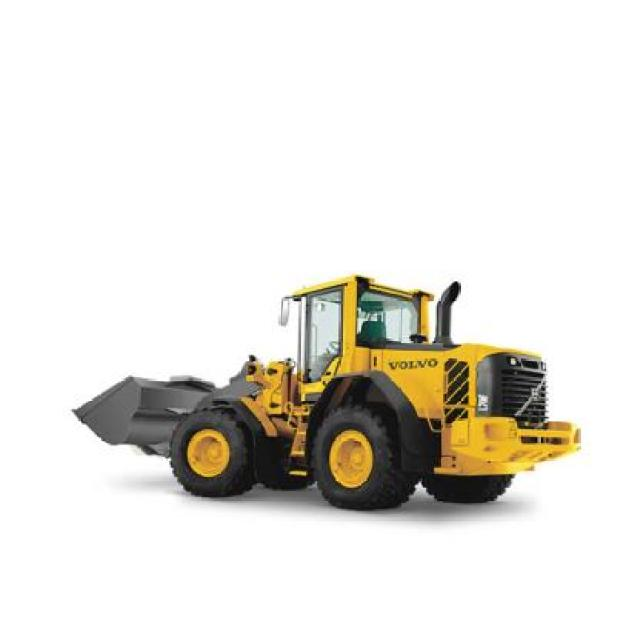buldozerpayloadergrader: (63, 274, 594, 521)
